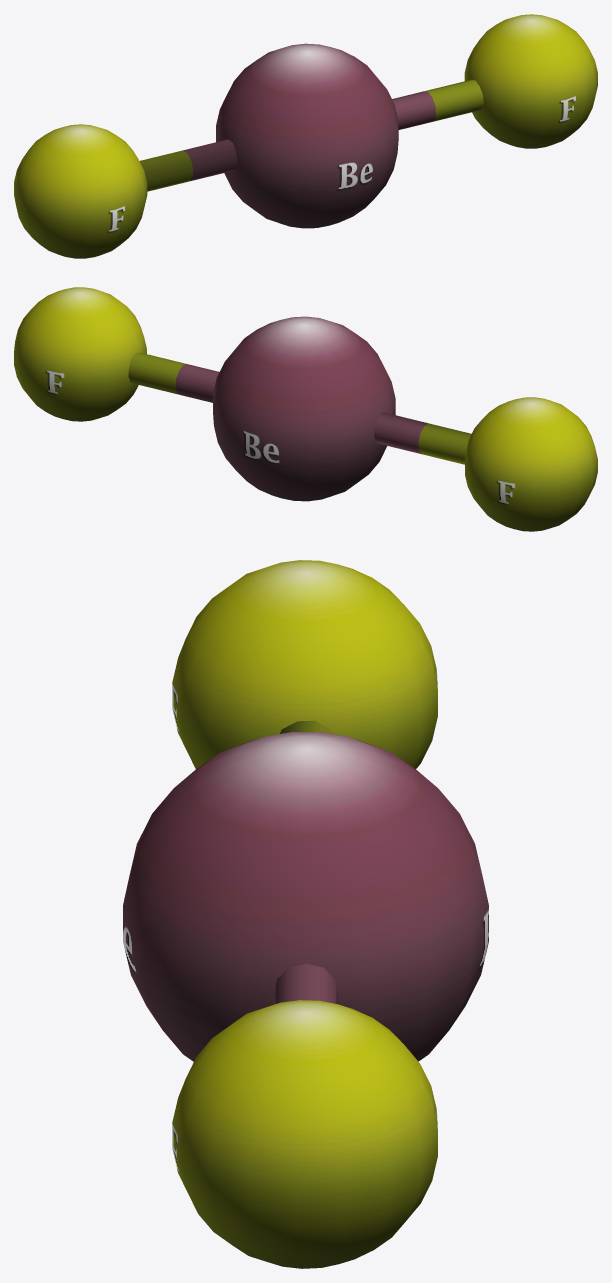
The model's file is Bef2.dae.
3 views of the same model, one above another, from view 1: azimuth 30°, elevation 25°; view 2: azimuth 150°, elevation 25°; view 3: azimuth 270°, elevation 25° (orthographic). The views are drawn at different scales.
Parts seen in each view (by area): view 1: polySurface2; view 2: polySurface2; view 3: polySurface2.
Boxes of the visible parts, bbox=[...] form: polySurface2: bbox=[14, 14, 597, 258]; polySurface2: bbox=[14, 287, 597, 531]; polySurface2: bbox=[123, 560, 488, 1268].
Size of the model in its own units: 3.06 by 0.8648 by 0.8564.
Materials: 1 (1 with a texture image).
